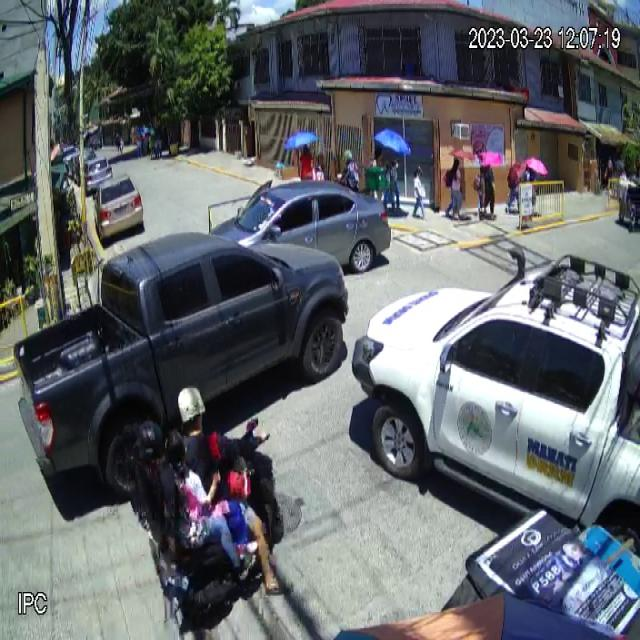Car: (12, 226, 350, 504), (353, 255, 640, 542), (211, 182, 392, 282), (93, 171, 145, 242)
